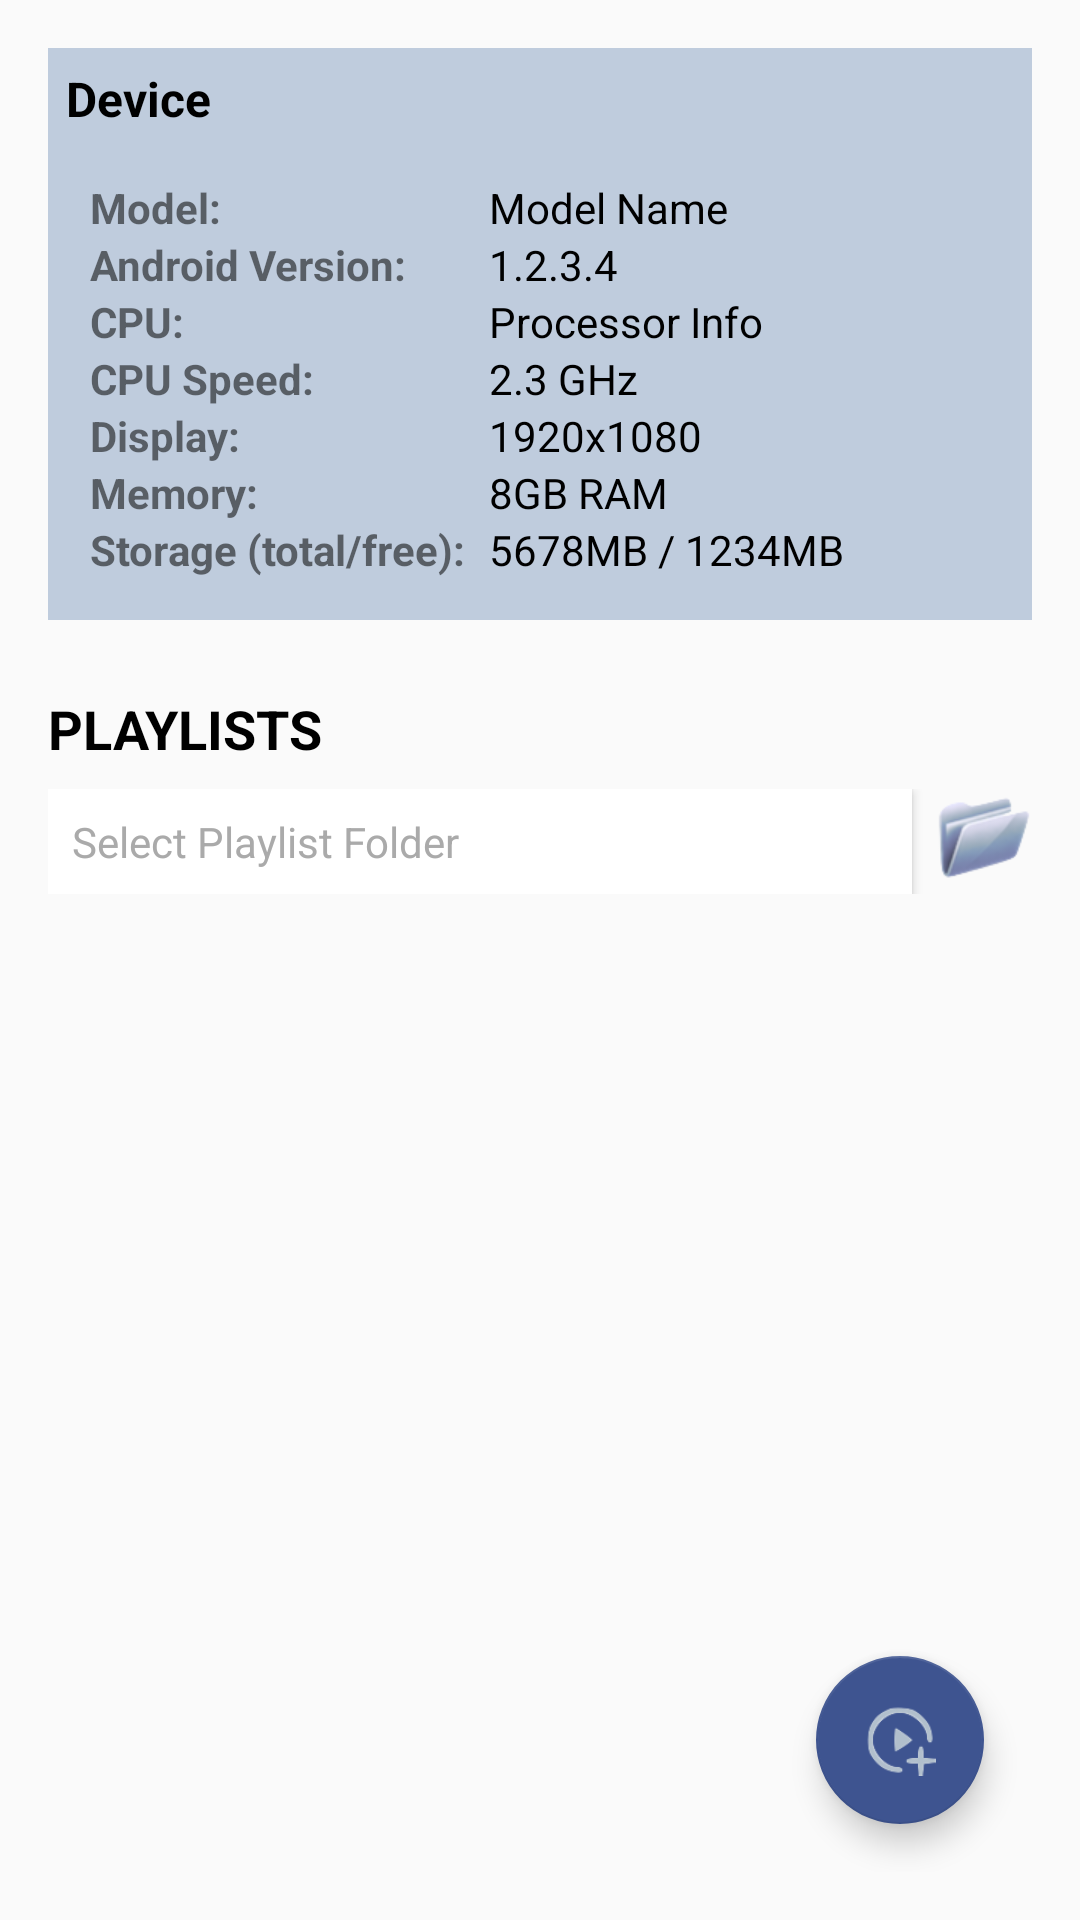

Point at icon controls on the screen. Image size 1080w x 1920h, points as (x=x, y=y).
Add Playlist: (x=900, y=1740)
